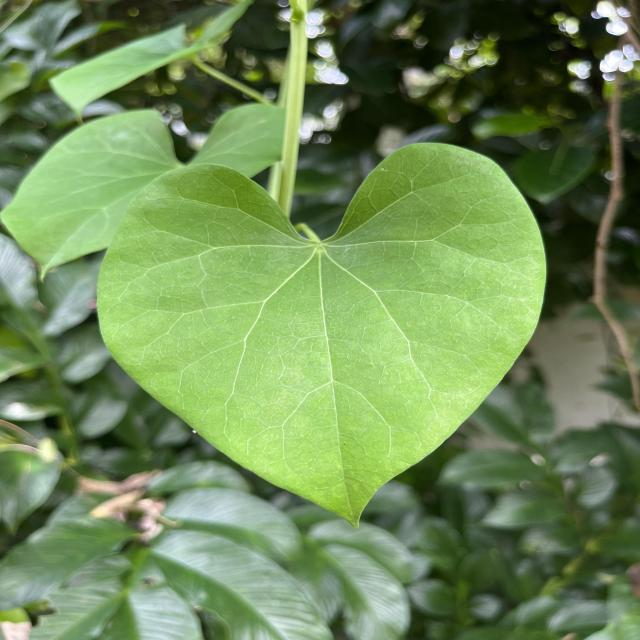Tinospora cordifolia: (89, 135, 553, 538)
